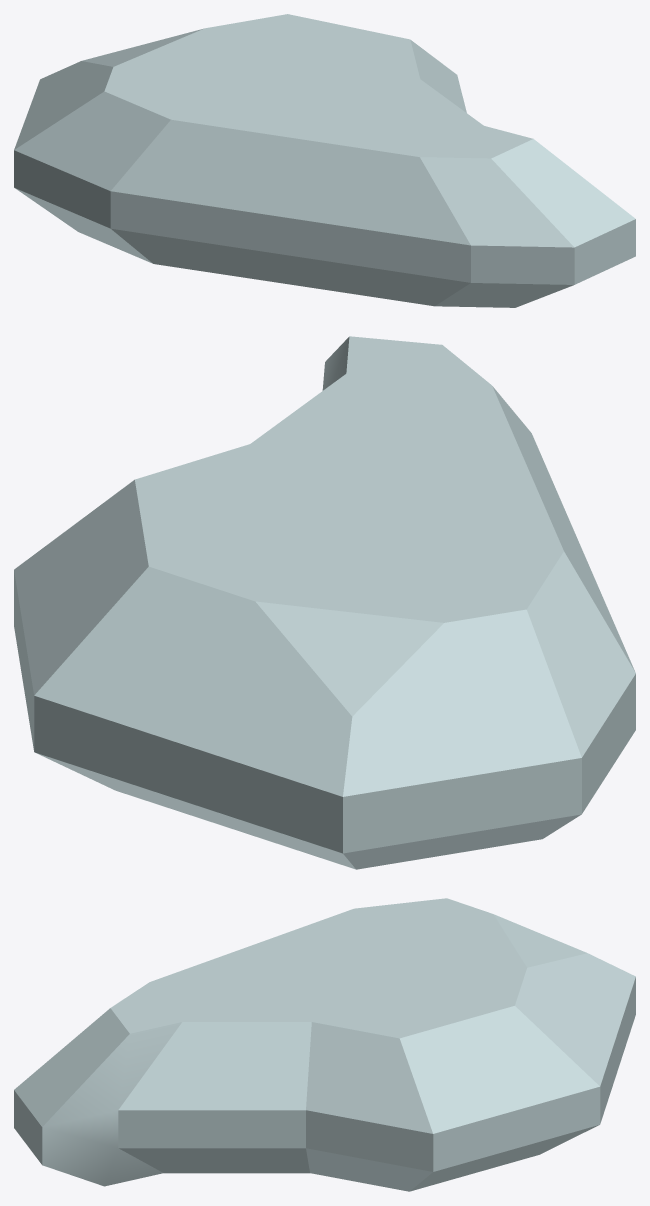
Rendered from stone-largea.glb.
3 renders of one model, top to bottom at view 1: azimuth 30°, elevation 25°; view 2: azimuth 150°, elevation 25°; view 3: azimuth 270°, elevation 25°, orthographic. The views are drawn at different scales.
Visible parts, largest first — view 1: stone_largeA; view 2: stone_largeA; view 3: stone_largeA.
Part boxes in pixels (left/top/right/bottom): stone_largeA: left=14, top=14, right=635, bottom=307; stone_largeA: left=14, top=336, right=635, bottom=869; stone_largeA: left=14, top=898, right=635, bottom=1191.
Size of the model in its own units: 0.7849 by 0.2597 by 1.02.
